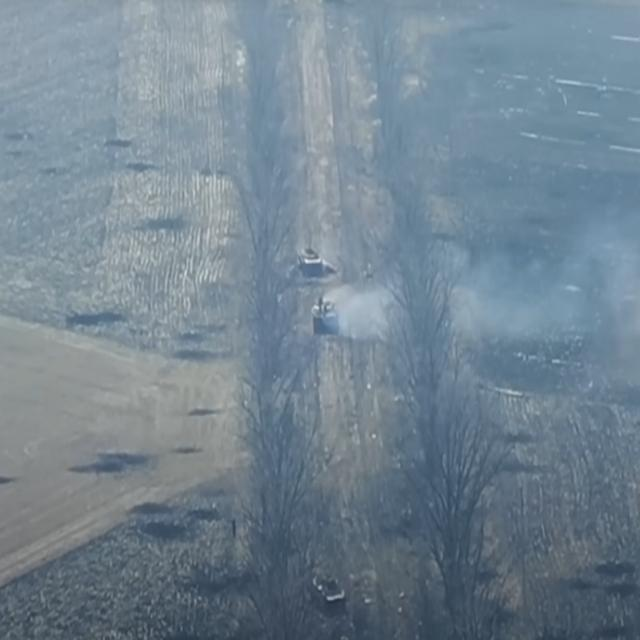AIFV: (313, 569, 348, 617), (296, 245, 325, 280)
MBT: (312, 297, 343, 337)
